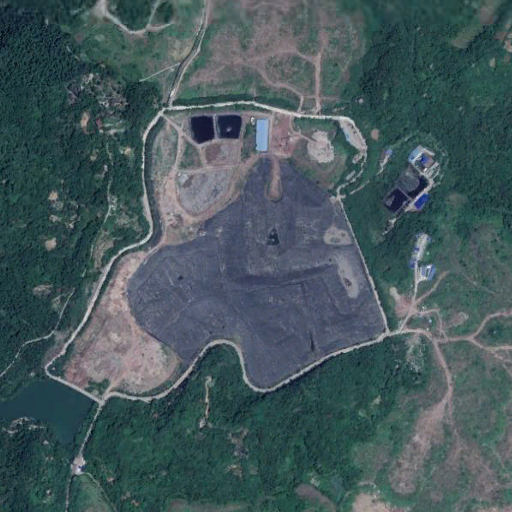lf: (126, 155, 385, 389)
